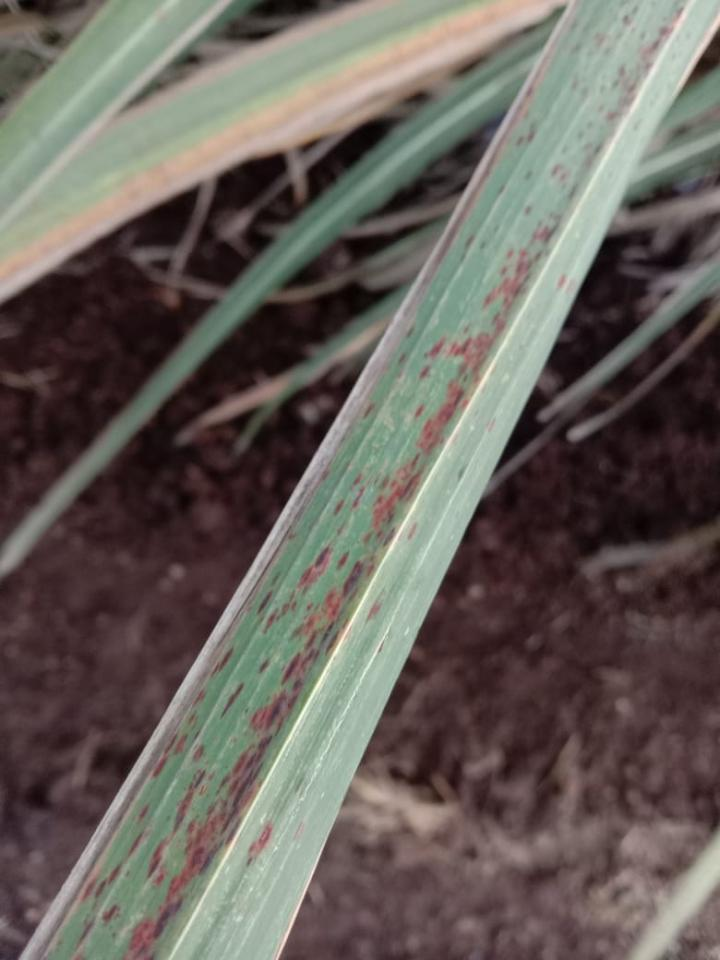Rust: (62, 198, 568, 959), (546, 0, 694, 206), (514, 75, 542, 149), (457, 231, 493, 267), (552, 268, 578, 297), (361, 399, 377, 423), (318, 465, 336, 485), (492, 182, 511, 200), (284, 527, 300, 545), (521, 167, 535, 185)
